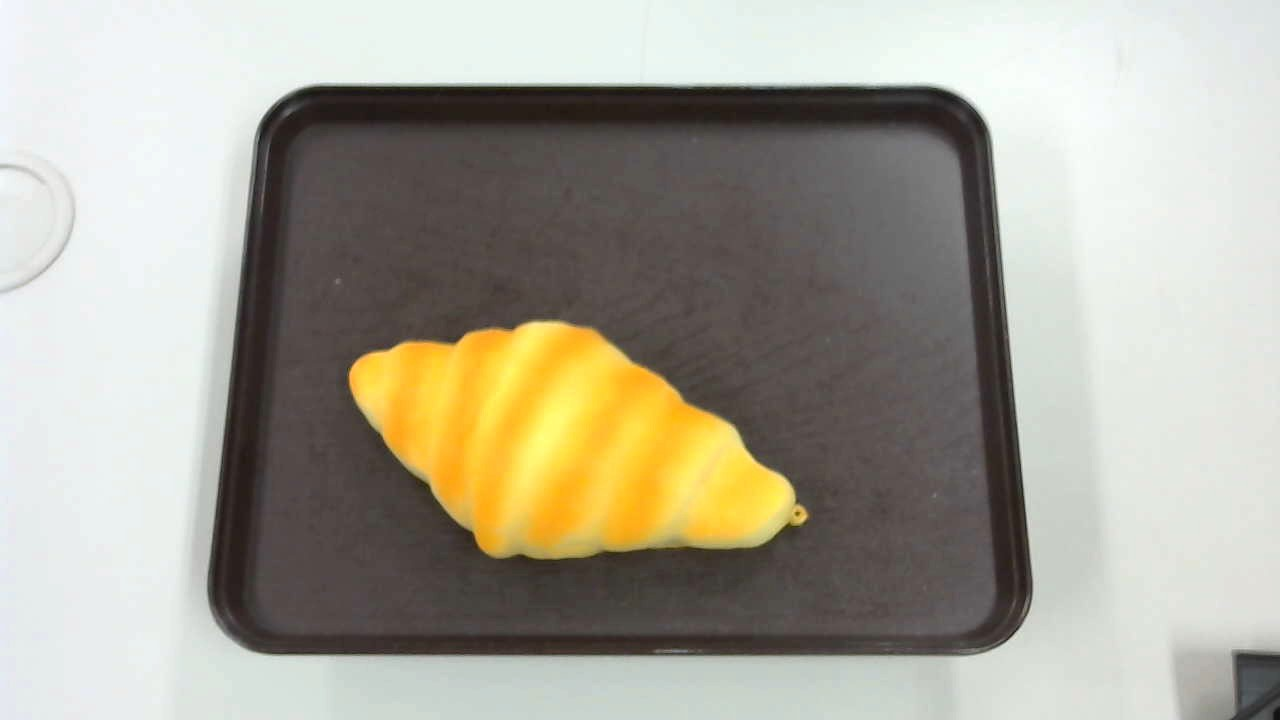croissant: (348, 319, 808, 562)
